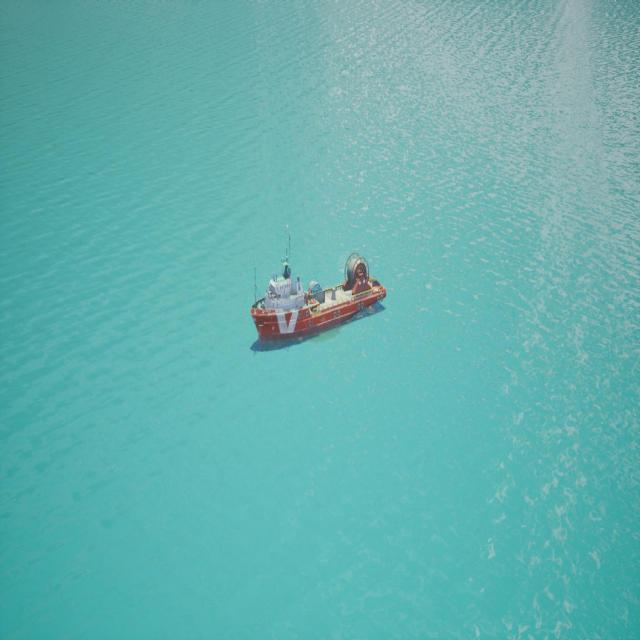tug boat: (251, 263, 387, 352)
